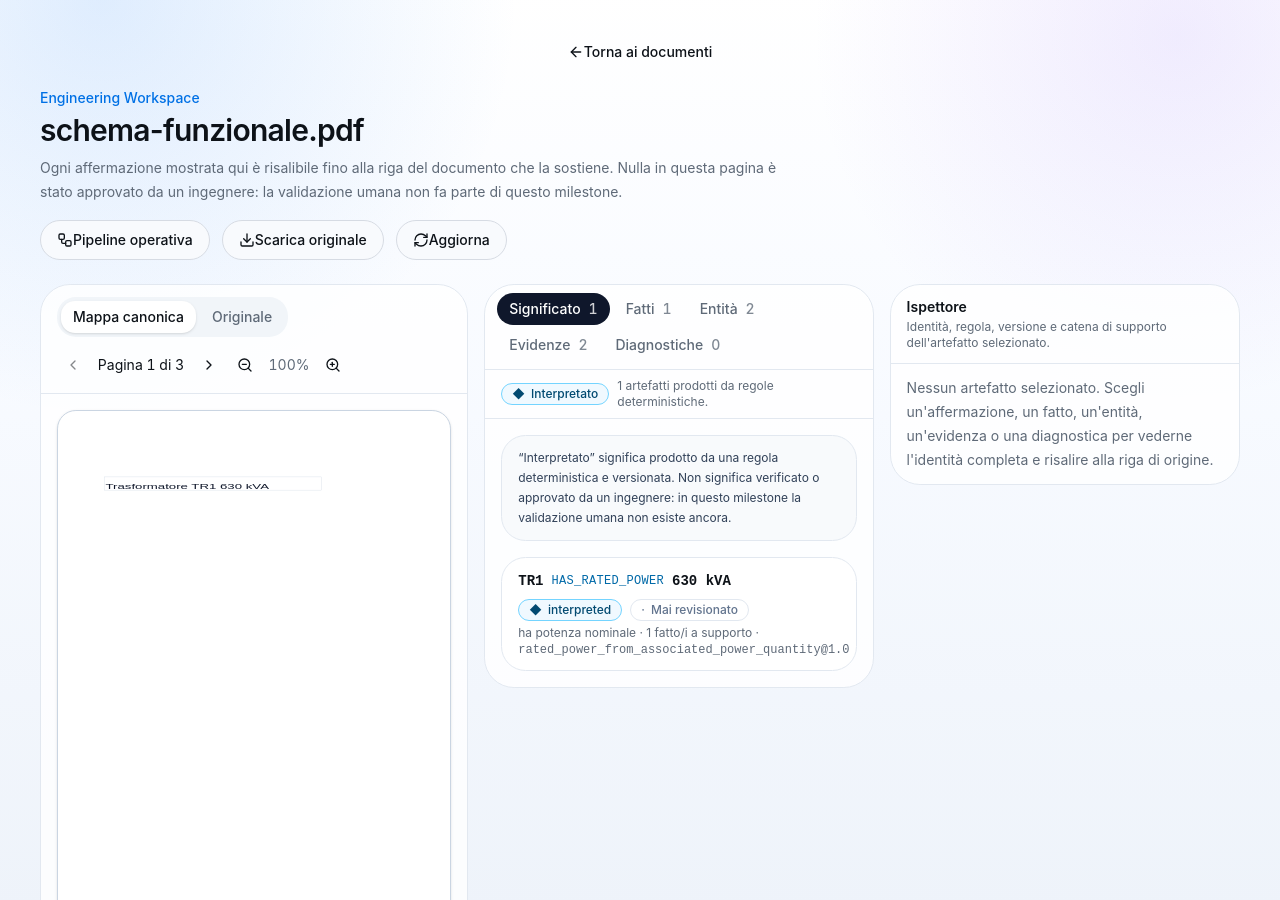
Scenario: the source viewer › navigates pages and reports the page count the backend gave
The width and height of the screenshot is (1280, 900).
Expected: the heading "schema-funzionale.pdf" is shown, [40,112,364,148]
Expected: the text "Pagina 1 di 3" is shown, [93,355,189,375]
Click the button named "Pagina successiva": [209, 365] box [193,349,225,381]
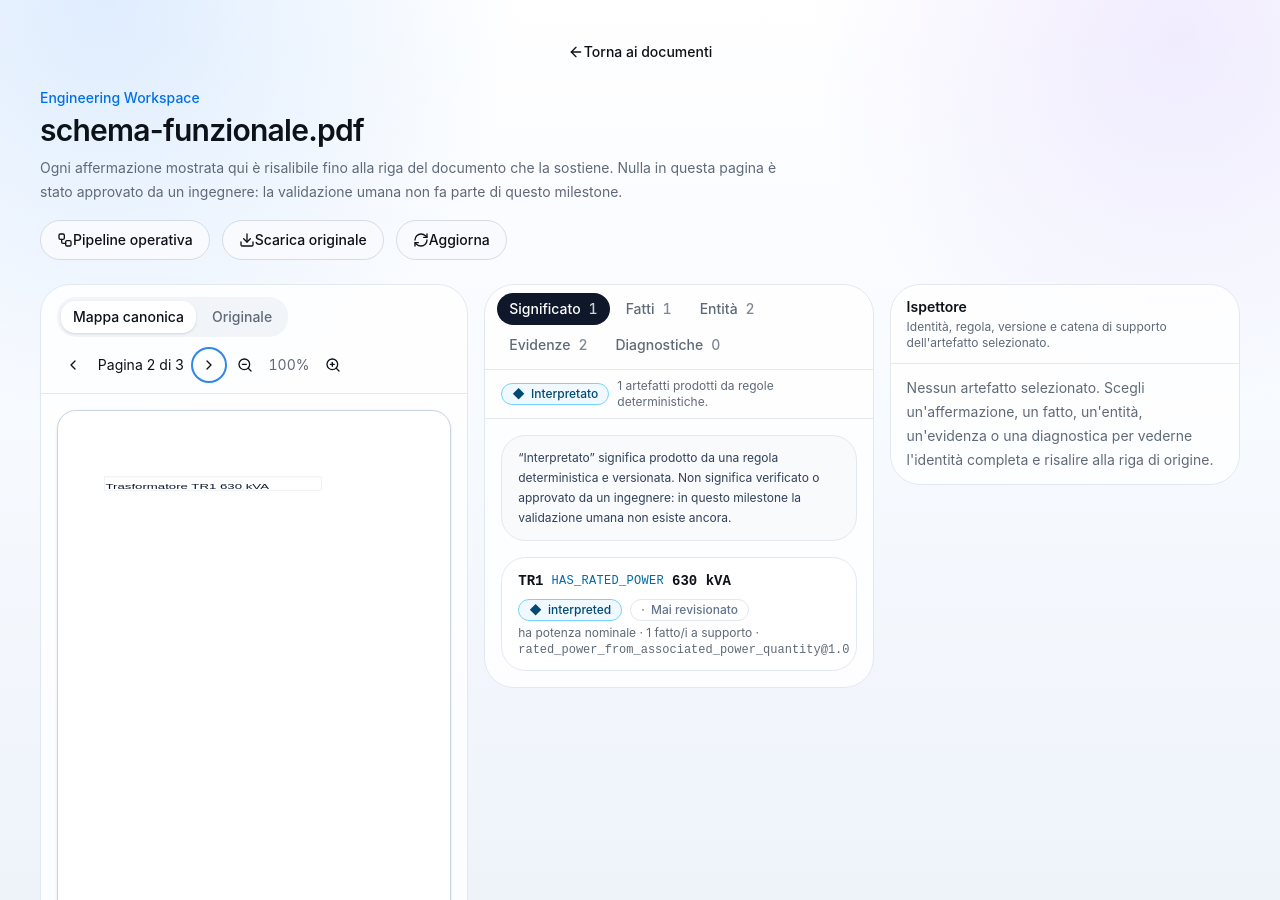
Expected: the text "Pagina 2 di 3" is shown, [93,355,189,375]
